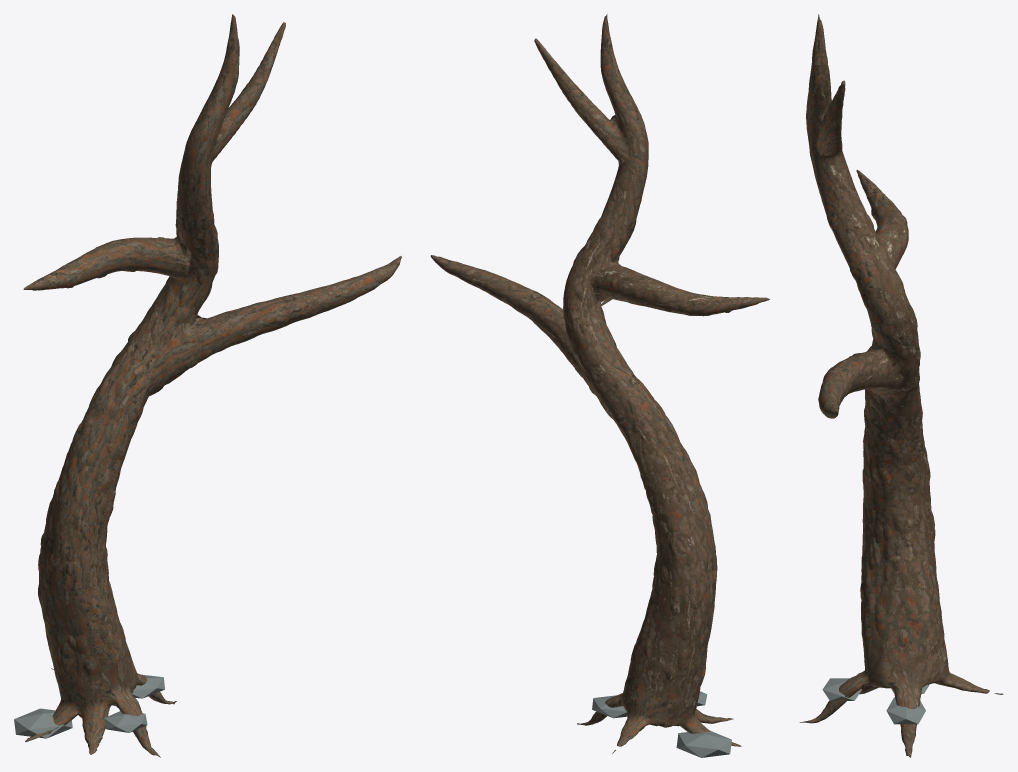
The model's file is pine-036-wood.glb.
3 views of the same model, side by side, from view 1: azimuth 30°, elevation 25°; view 2: azimuth 150°, elevation 25°; view 3: azimuth 270°, elevation 25° (orthographic). The views are drawn at different scales.
Visible parts, largest first — view 1: H36 fused trunk roots and principal branches, H36 broad torn bark physical flakes, H36 embedded slope stone 00, H36 embedded slope stone 02; view 2: H36 fused trunk roots and principal branches, H36 broad torn bark physical flakes, H36 embedded slope stone 00; view 3: H36 fused trunk roots and principal branches, H36 broad torn bark physical flakes, H36 embedded slope stone 01, H36 embedded slope stone 02.
Boxes of the visible parts, left/top/right/bottom form: H36 fused trunk roots and principal branches: left=23, top=14, right=401, bottom=757; H36 broad torn bark physical flakes: left=38, top=208, right=232, bottom=676; H36 embedded slope stone 00: left=14, top=708, right=72, bottom=738; H36 embedded slope stone 02: left=104, top=711, right=147, bottom=732; H36 fused trunk roots and principal branches: left=430, top=14, right=769, bottom=753; H36 broad torn bark physical flakes: left=565, top=216, right=731, bottom=686; H36 embedded slope stone 00: left=676, top=731, right=731, bottom=757; H36 fused trunk roots and principal branches: left=799, top=14, right=1003, bottom=757; H36 broad torn bark physical flakes: left=826, top=188, right=939, bottom=647; H36 embedded slope stone 01: left=886, top=697, right=925, bottom=724; H36 embedded slope stone 02: left=822, top=678, right=861, bottom=700.
Bounding box in the file's own units: 4.2 × 7.82 × 1.93.
2 materials, 1 textured.
